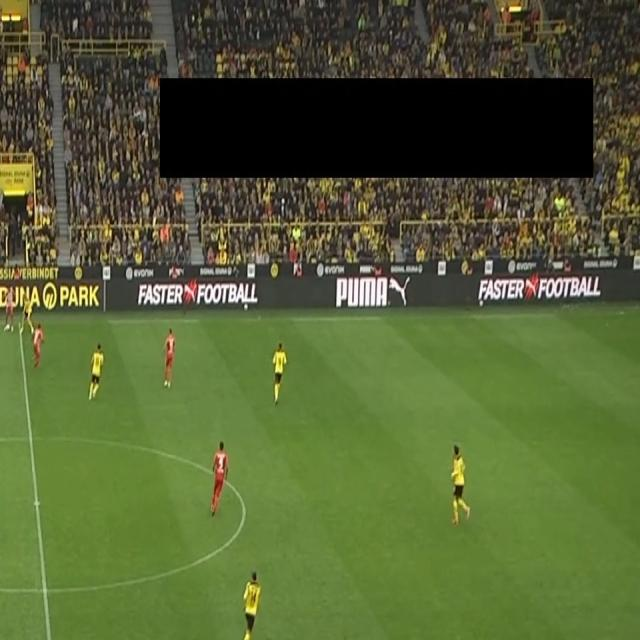ball: (4, 321, 10, 332)
